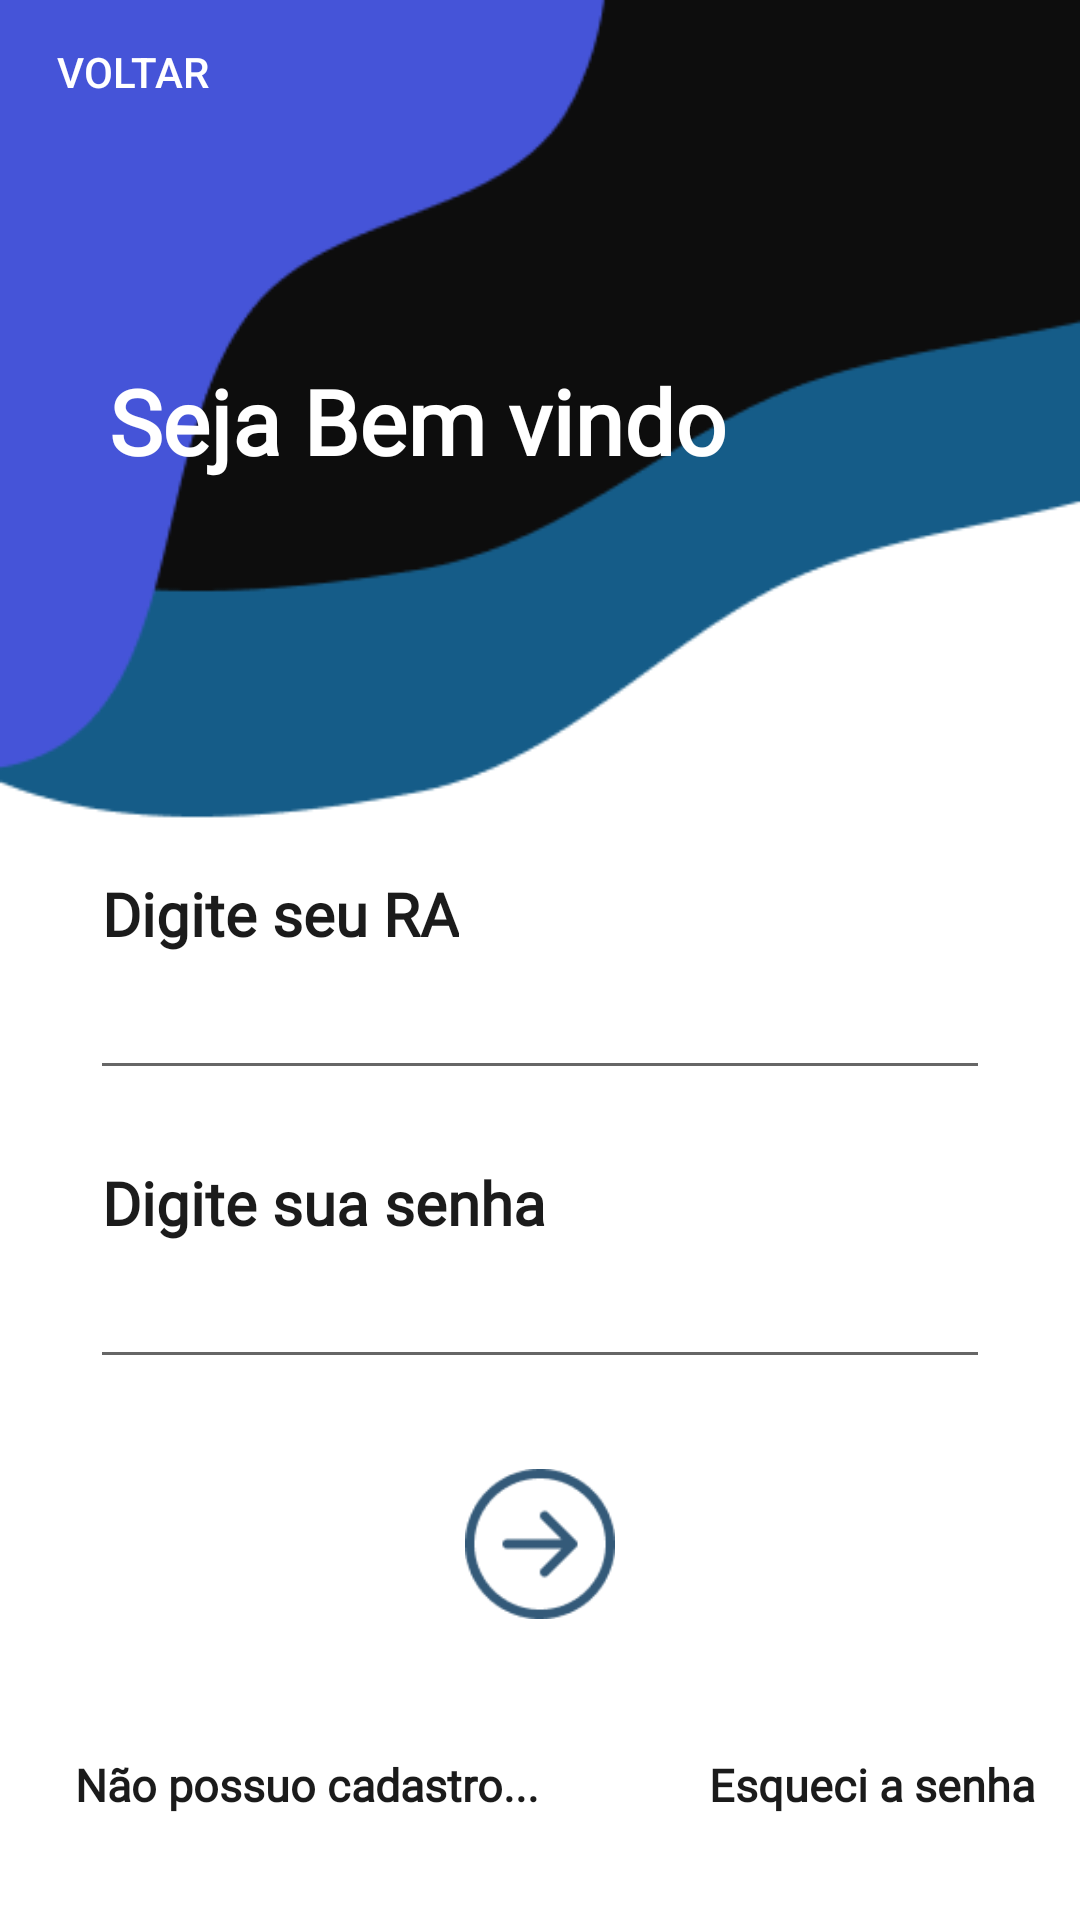

Icons on this 1080 × 1920 Android screen, each with the point to tap as (x,y):
login: (540,1544)
